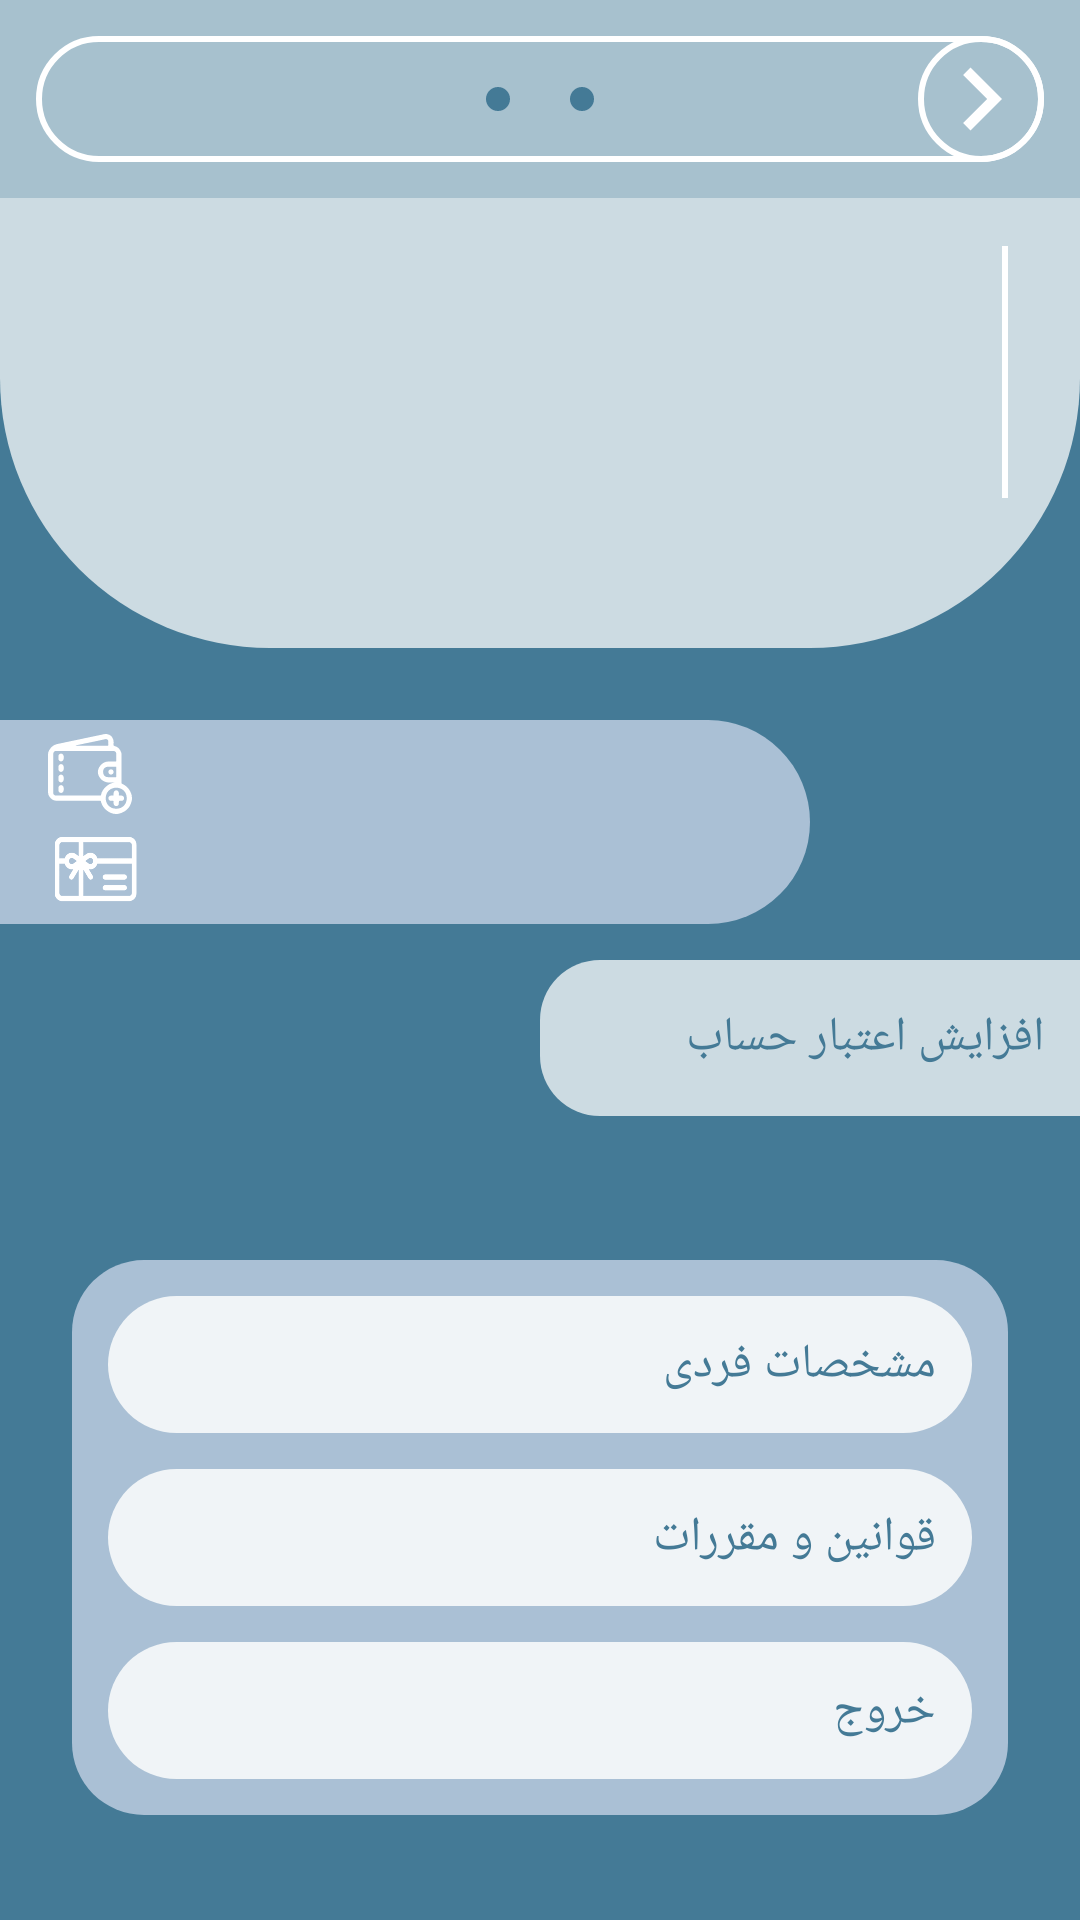

Screen size 1080 × 1920. Icon name, then its box in pixels as (x1, y1, x2, y2):
giftcard: (55, 837, 137, 901)
right: (918, 36, 1044, 162)
wallet: (48, 734, 132, 814)
